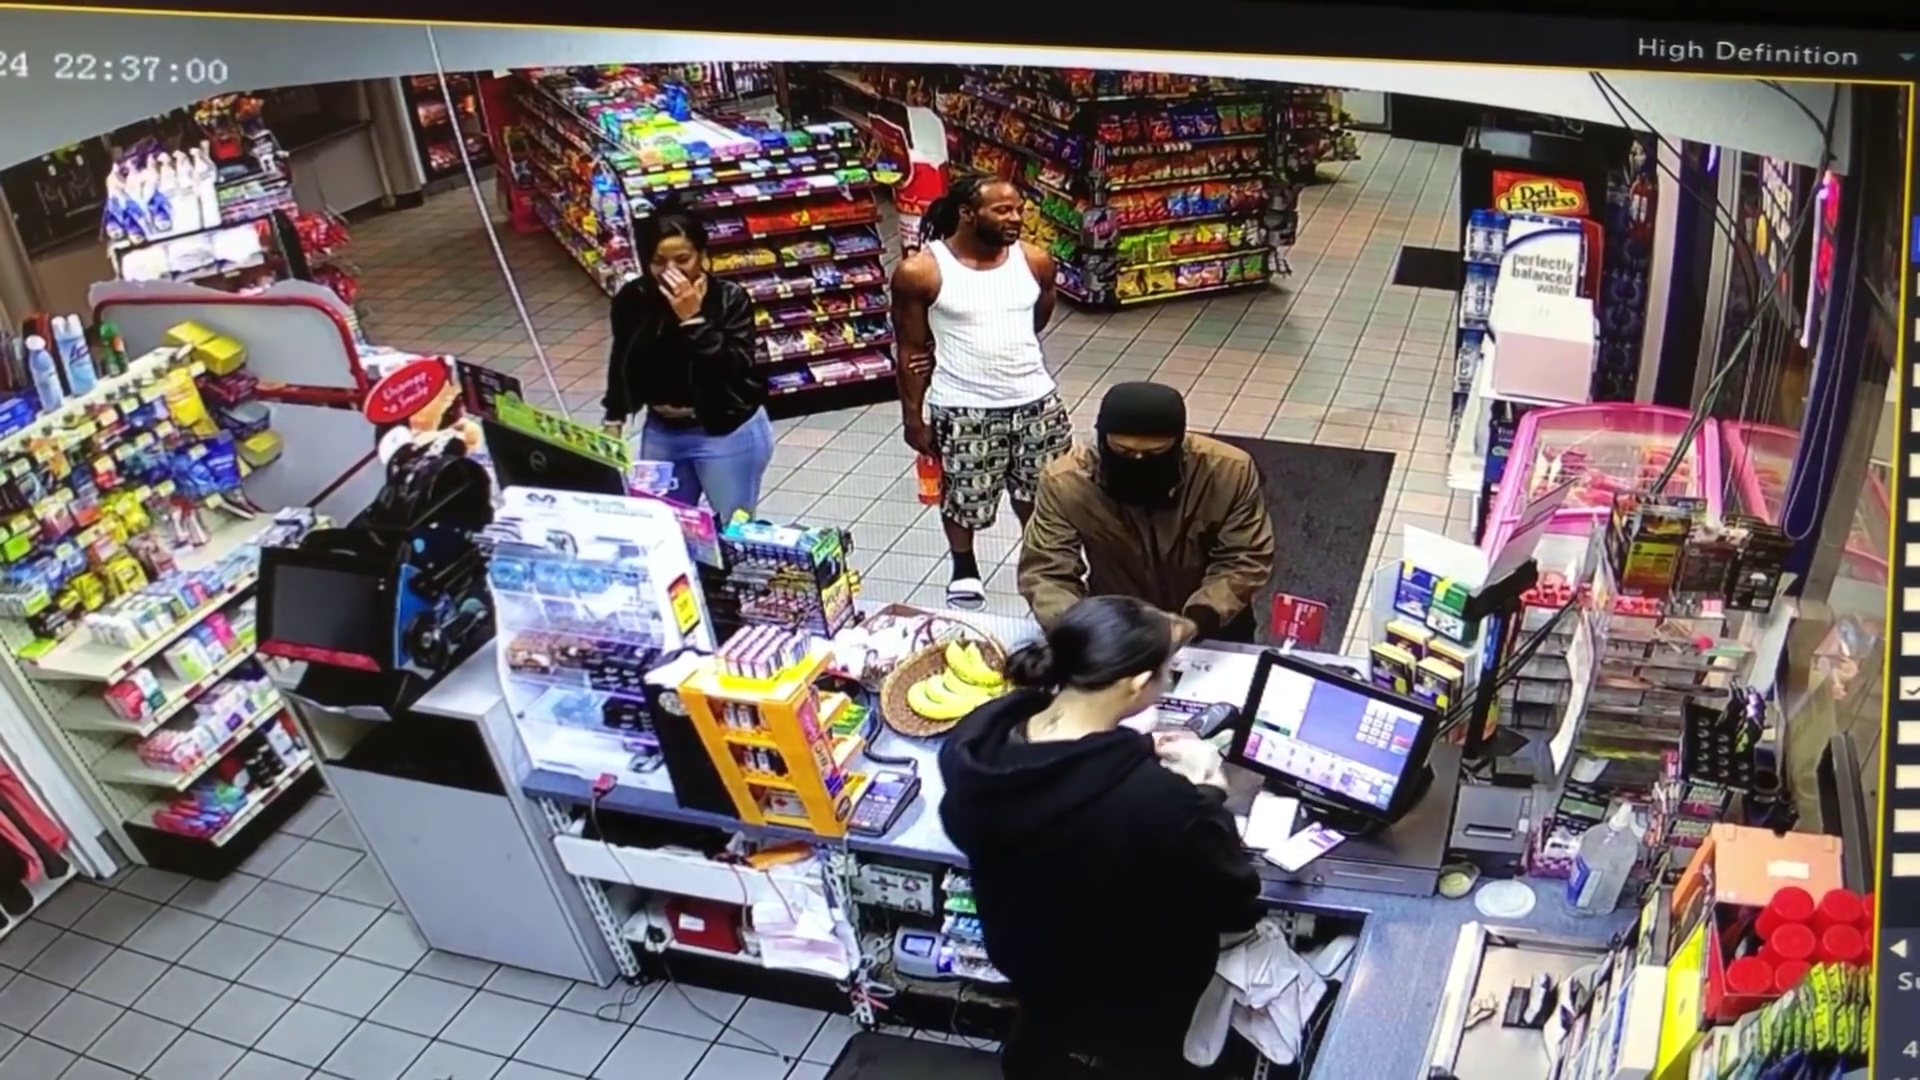face: (1091, 413, 1194, 498), (965, 184, 1019, 253), (644, 229, 696, 291)
